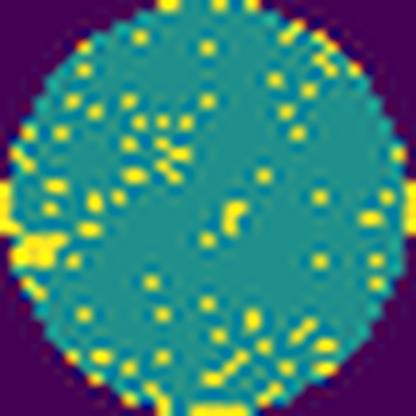Edge-Loc: (0, 179, 65, 269)
